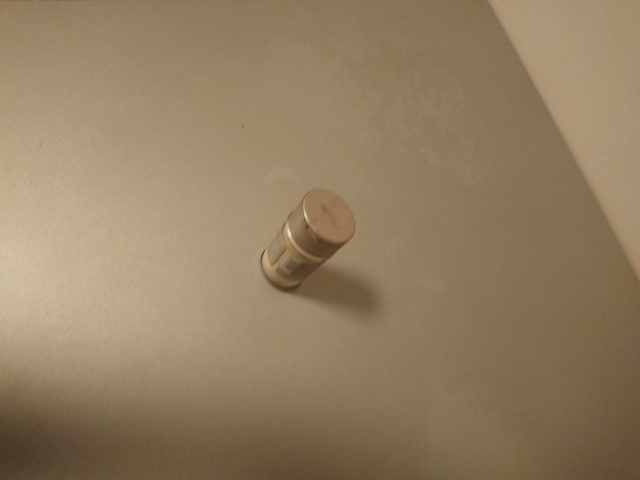Kotanyi Garlic Granules 70g: (259, 187, 358, 294)
